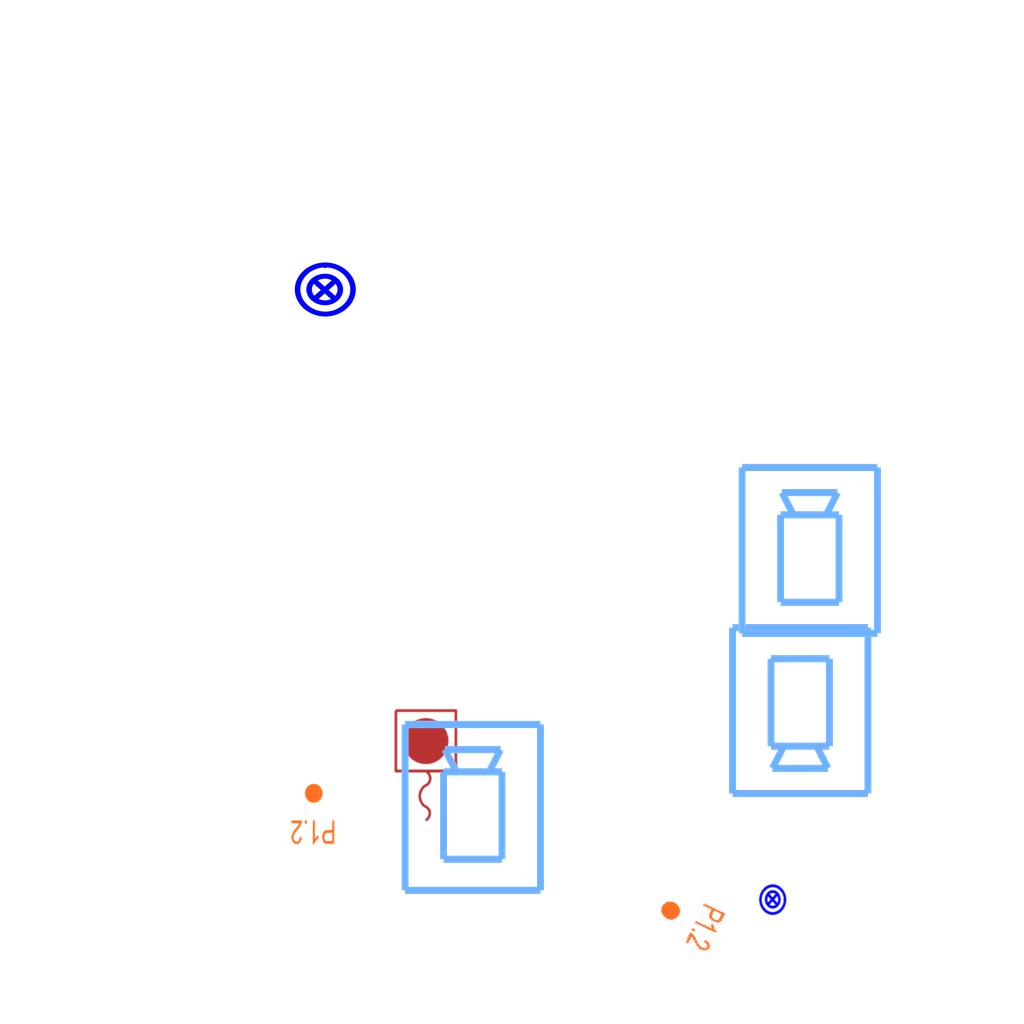Downlight_LED_Einbauleuchten_Flur: (650, 885, 728, 955), (290, 782, 336, 846)
KFO_Kamera_mit_Festobjektiv: (722, 619, 876, 801), (734, 460, 888, 642), (397, 717, 551, 899)
Taster_beleuchtet: (292, 257, 358, 323), (756, 883, 789, 916)
Zugtaster: (389, 705, 461, 827)
